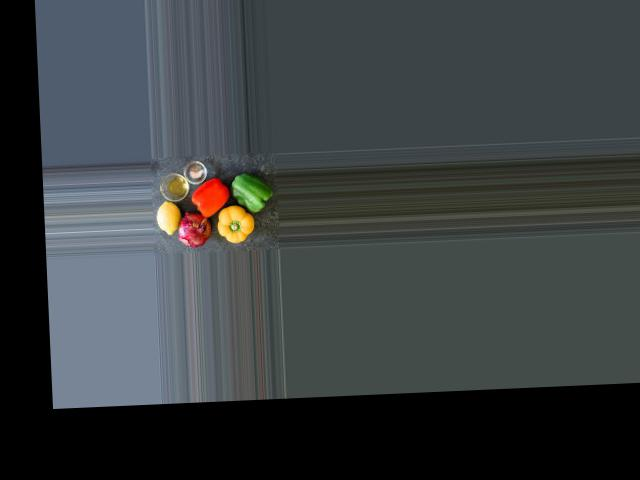bell_pepper: (190, 176, 230, 219)
